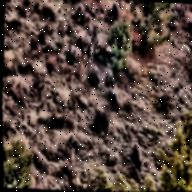boar: (87, 102, 114, 136), (102, 85, 122, 116), (89, 63, 105, 97), (65, 40, 80, 71), (131, 142, 144, 177), (102, 68, 117, 90), (109, 1, 123, 23), (73, 1, 87, 22), (80, 35, 94, 55)
